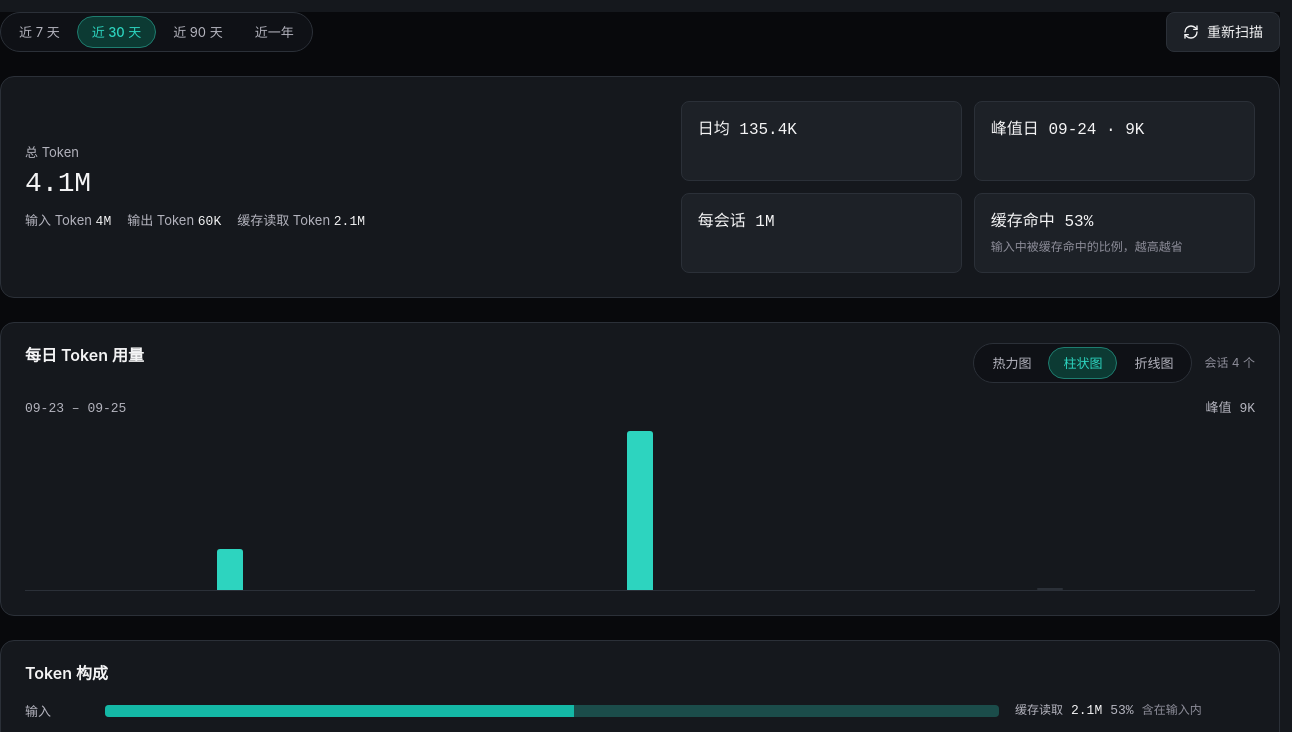
「重新扫描」按当前范围重新请求并给出提示
Click the button "重新扫描".
click(1223, 32)  # box [1166,12,1280,52]
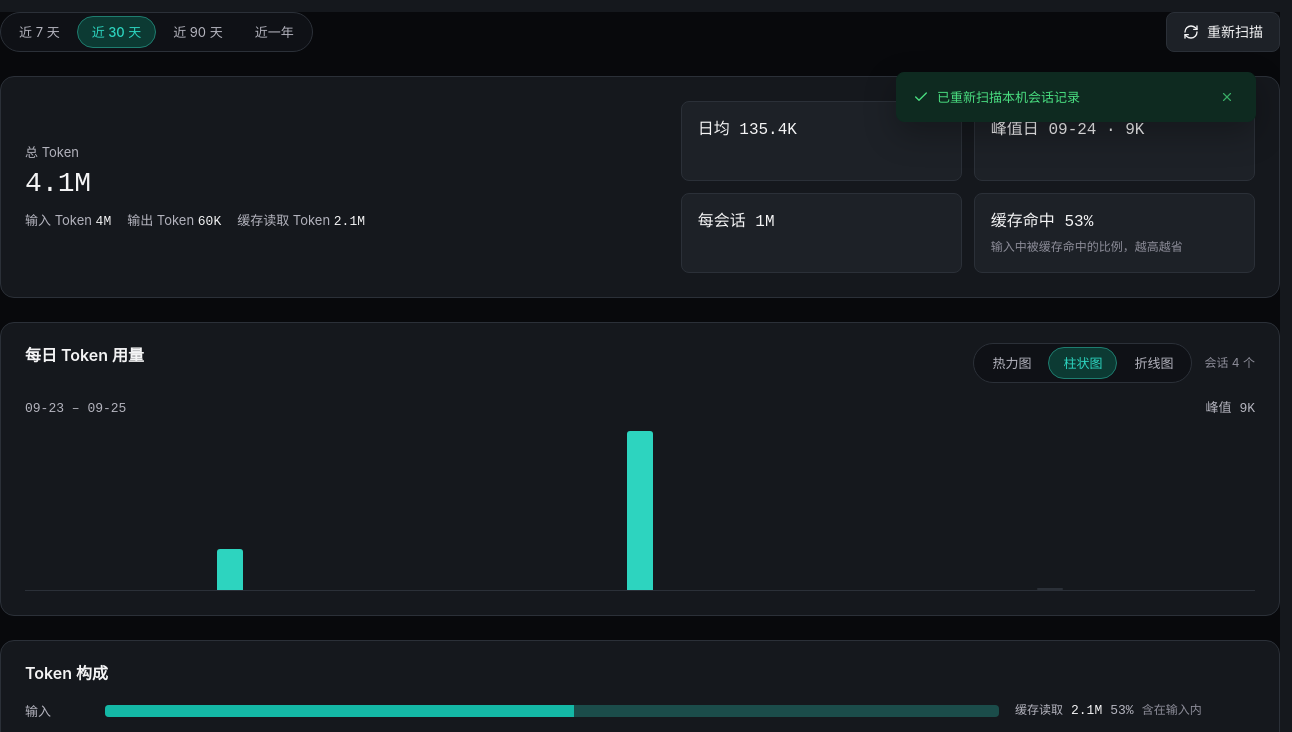
Expected: the text "已重新扫描本机会话记录" is shown, [937,89,1080,105]
